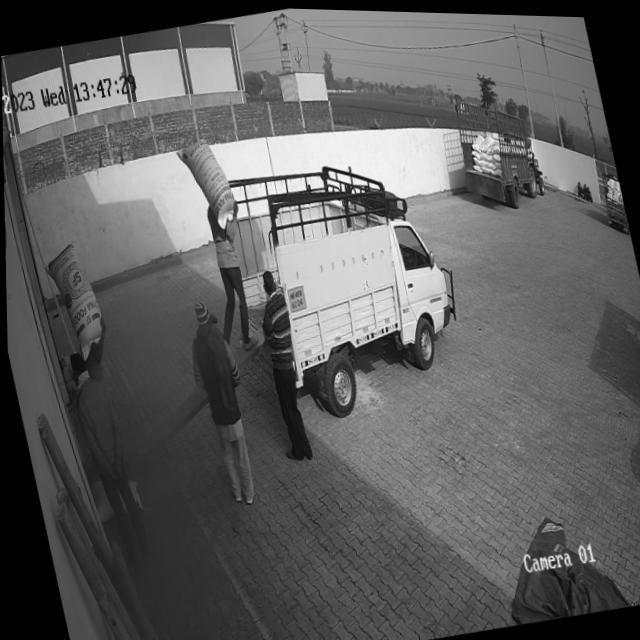sack: (41, 240, 108, 363), (174, 133, 239, 233)
